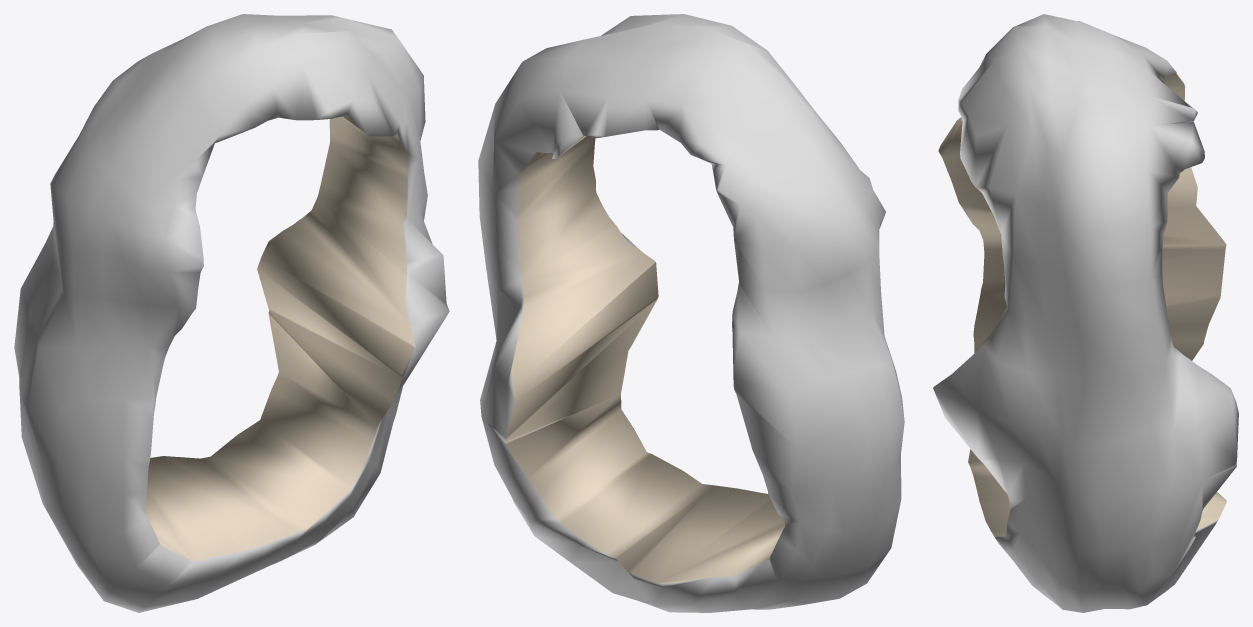
Rendered from NuggetHole.fbx.
3 views of the same model, side by side, from view 1: azimuth 30°, elevation 25°; view 2: azimuth 150°, elevation 25°; view 3: azimuth 270°, elevation 25° (orthographic). The views are drawn at different scales.
Visible parts, largest first — view 1: nuggetHole; view 2: nuggetHole; view 3: nuggetHole.
Part boxes in pixels (left/top/right/bottom): nuggetHole: left=14, top=14, right=449, bottom=612; nuggetHole: left=478, top=14, right=904, bottom=612; nuggetHole: left=933, top=14, right=1238, bottom=612.
Size of the model in its own units: 188 by 239 by 118.
